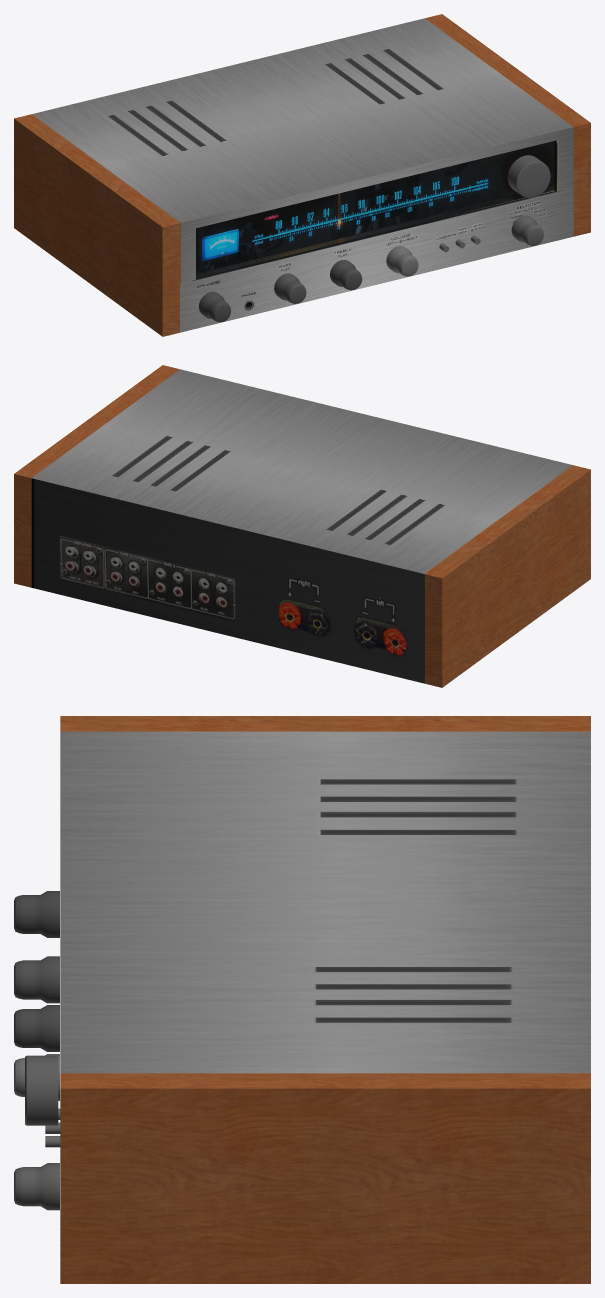
File: stero.fbx
3 renders of one model, top to bottom at view 1: azimuth 30°, elevation 25°; view 2: azimuth 150°, elevation 25°; view 3: azimuth 270°, elevation 25°, orthographic. The views are drawn at different scales.
Parts seen in each view (by area): view 1: Stereo_Receiver, TunerKnob, Knob_04, Knob_05, Knob_02, Knob_03, Knob_01; view 2: Stereo_Receiver; view 3: Stereo_Receiver, TunerKnob, Knob_02, Knob_05, Knob_03, Knob_01.
Part boxes in pixels (left/top/right/bottom): Stereo_Receiver: left=14, top=14, right=590, bottom=336; TunerKnob: left=507, top=155, right=550, bottom=198; Knob_04: left=386, top=246, right=418, bottom=276; Knob_05: left=511, top=215, right=543, bottom=245; Knob_02: left=274, top=273, right=306, bottom=303; Knob_03: left=330, top=259, right=362, bottom=290; Knob_01: left=199, top=291, right=230, bottom=322; Stereo_Receiver: left=14, top=365, right=590, bottom=687; Stereo_Receiver: left=60, top=716, right=590, bottom=1283; TunerKnob: left=25, top=1055, right=58, bottom=1125; Knob_02: left=14, top=956, right=59, bottom=1003; Knob_05: left=14, top=1163, right=59, bottom=1210; Knob_03: left=14, top=1005, right=59, bottom=1051; Knob_01: left=14, top=891, right=59, bottom=937.
Bounding box in the file's own units: 1.84 × 0.4507 × 1.21.
Materials: 7 (1 with a texture image).
